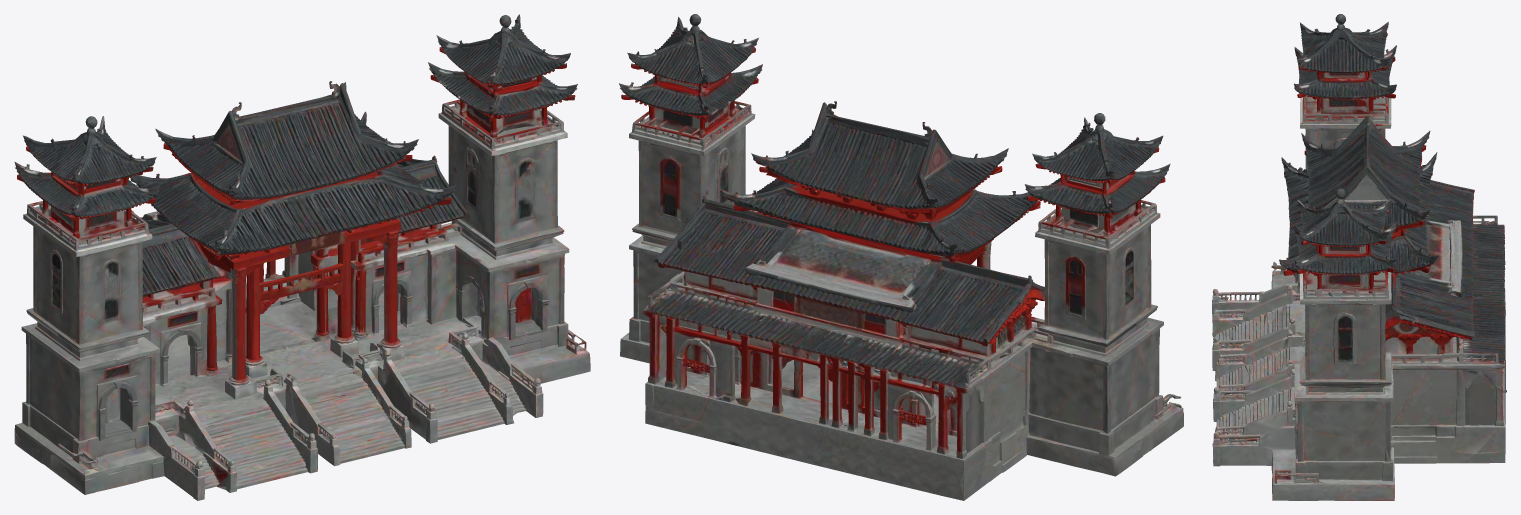
Rendered from sect_gate_grand.glb.
3 renders of one model, left to right at view 1: azimuth 30°, elevation 25°; view 2: azimuth 150°, elevation 25°; view 3: azimuth 270°, elevation 25°, orthographic. The views are drawn at different scales.
Bounding box in the file's own units: 1.89 × 1.2 × 1.1.
Materials: 1 (1 with a texture image).
